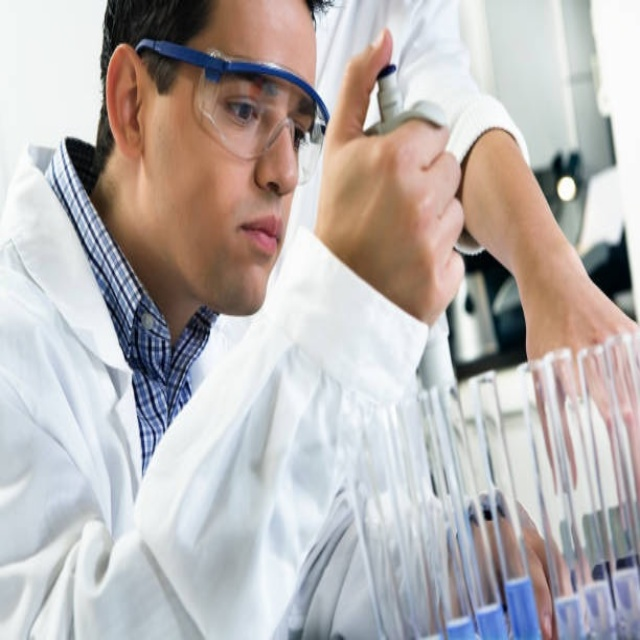Gafas: (138, 43, 330, 185)
Sin_guantes: (329, 28, 459, 325), (513, 254, 634, 515)
Sin_mascara: (205, 198, 289, 298)
